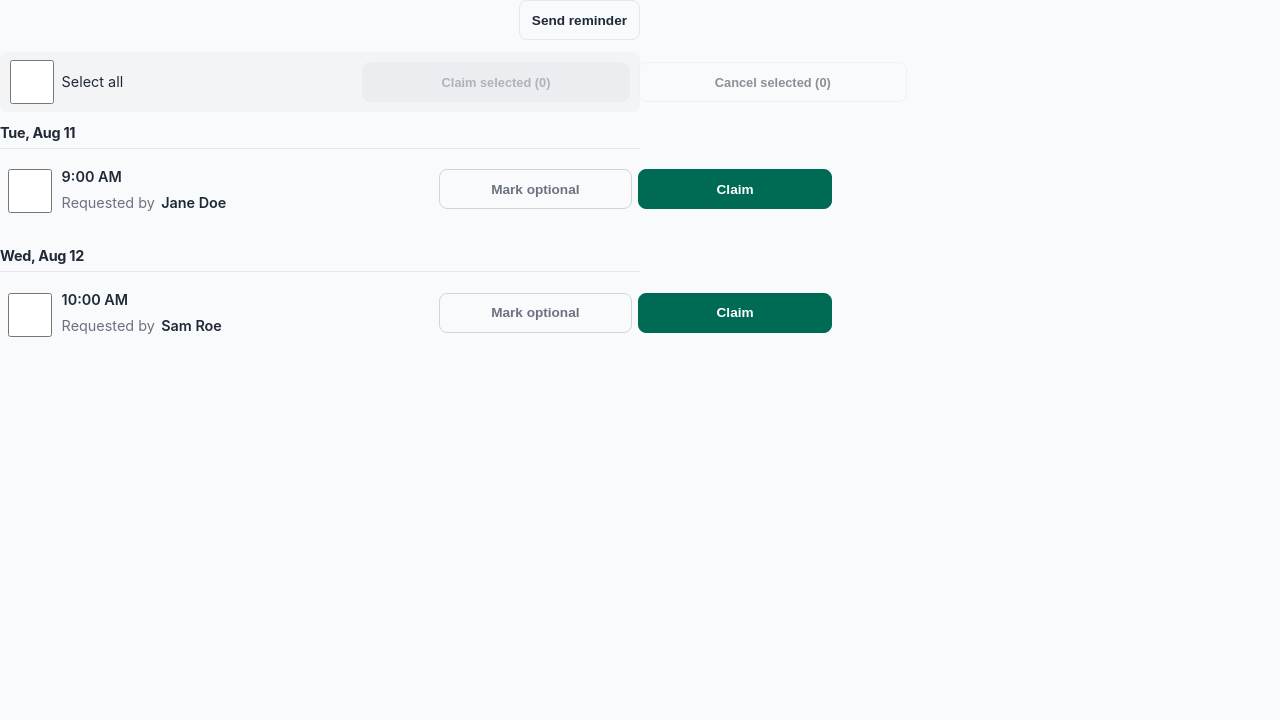
Test: NeedsCoverageList › reminder › names the number of shifts the reminder will cover
Expected: the text "Jane Doe" is shown, [161,191,226,214]
Click the button "Send reminder": click(579, 20) [519,0,640,40]
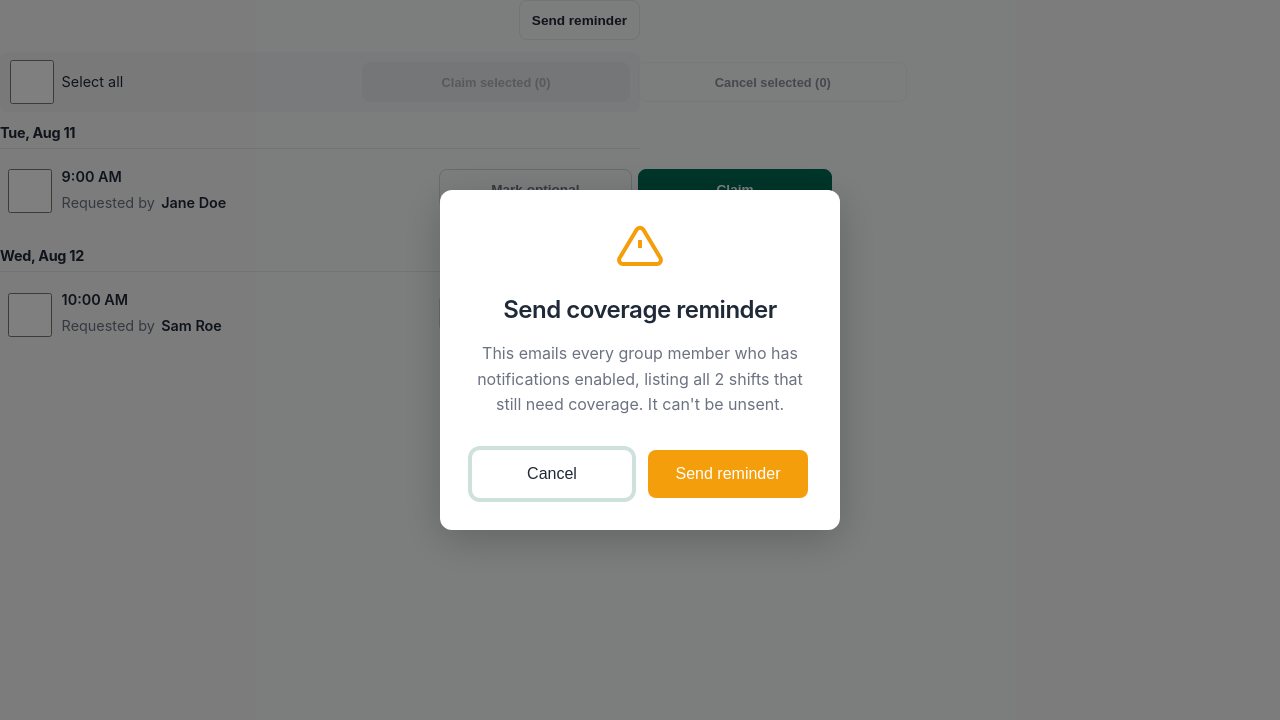
Now the text "all 2 shifts" is shown, box [477,343,803,414]
